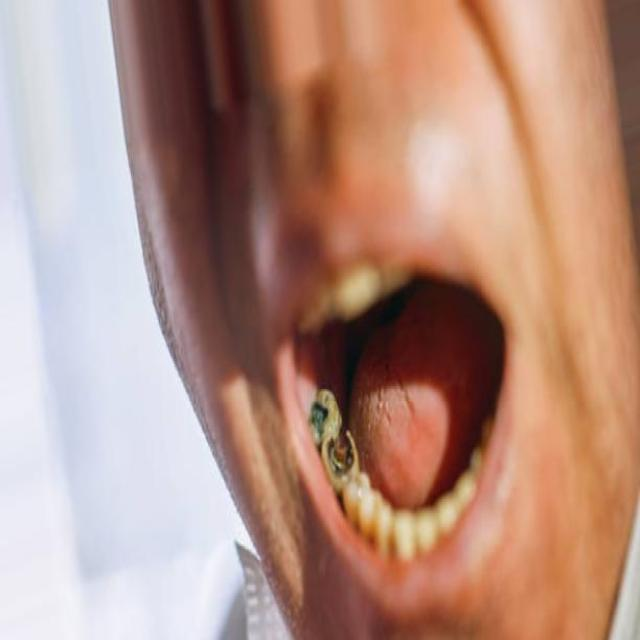caries: (321, 428, 365, 492), (305, 386, 341, 439)
